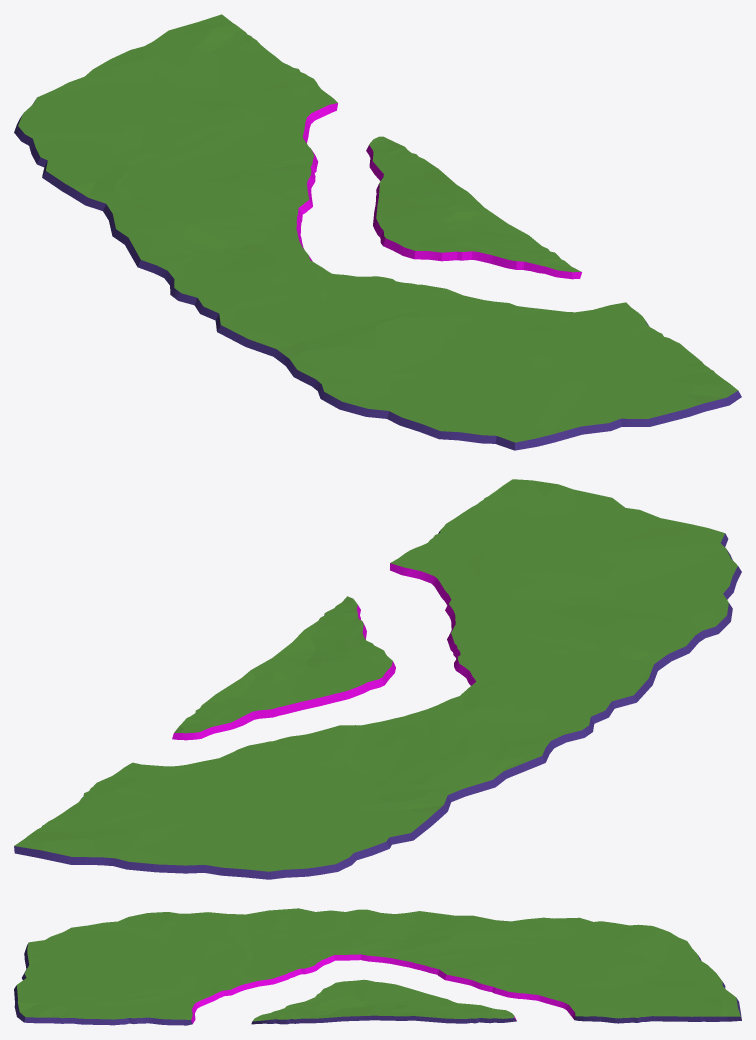
Rendered from grass_path_set_C_U_turn.fbx.
3 views of the same model, one above another, from view 1: azimuth 30°, elevation 25°; view 2: azimuth 150°, elevation 25°; view 3: azimuth 270°, elevation 25° (orthographic). The views are drawn at different scales.
Parts seen in each view (by area): view 1: path_uturn_grass_layer_A_L, path_uturn_grass_layer_A_R, path_uturn_grass_layer_B_R, path_uturn_grass_layer_B_L; view 2: path_uturn_grass_layer_A_L, path_uturn_grass_layer_A_R, path_uturn_grass_layer_B_R, path_uturn_grass_layer_B_L; view 3: path_uturn_grass_layer_A_L, path_uturn_grass_layer_A_R, path_uturn_grass_layer_B_R, path_uturn_grass_layer_B_L.
Boxes of the visible parts, x1,y1,x2,y2 form: path_uturn_grass_layer_A_L: (174, 258, 741, 450); path_uturn_grass_layer_A_R: (14, 14, 337, 297); path_uturn_grass_layer_B_R: (366, 136, 491, 245); path_uturn_grass_layer_B_L: (383, 213, 581, 279); path_uturn_grass_layer_A_L: (390, 479, 741, 734); path_uturn_grass_layer_A_R: (14, 697, 588, 879); path_uturn_grass_layer_B_R: (172, 652, 384, 740); path_uturn_grass_layer_B_L: (279, 596, 395, 684); path_uturn_grass_layer_A_L: (14, 908, 365, 1025); path_uturn_grass_layer_A_R: (360, 909, 741, 1023); path_uturn_grass_layer_B_R: (359, 979, 516, 1023); path_uturn_grass_layer_B_L: (251, 979, 366, 1024).
Size of the model in its own units: 2761 by 78.55 by 7491.
